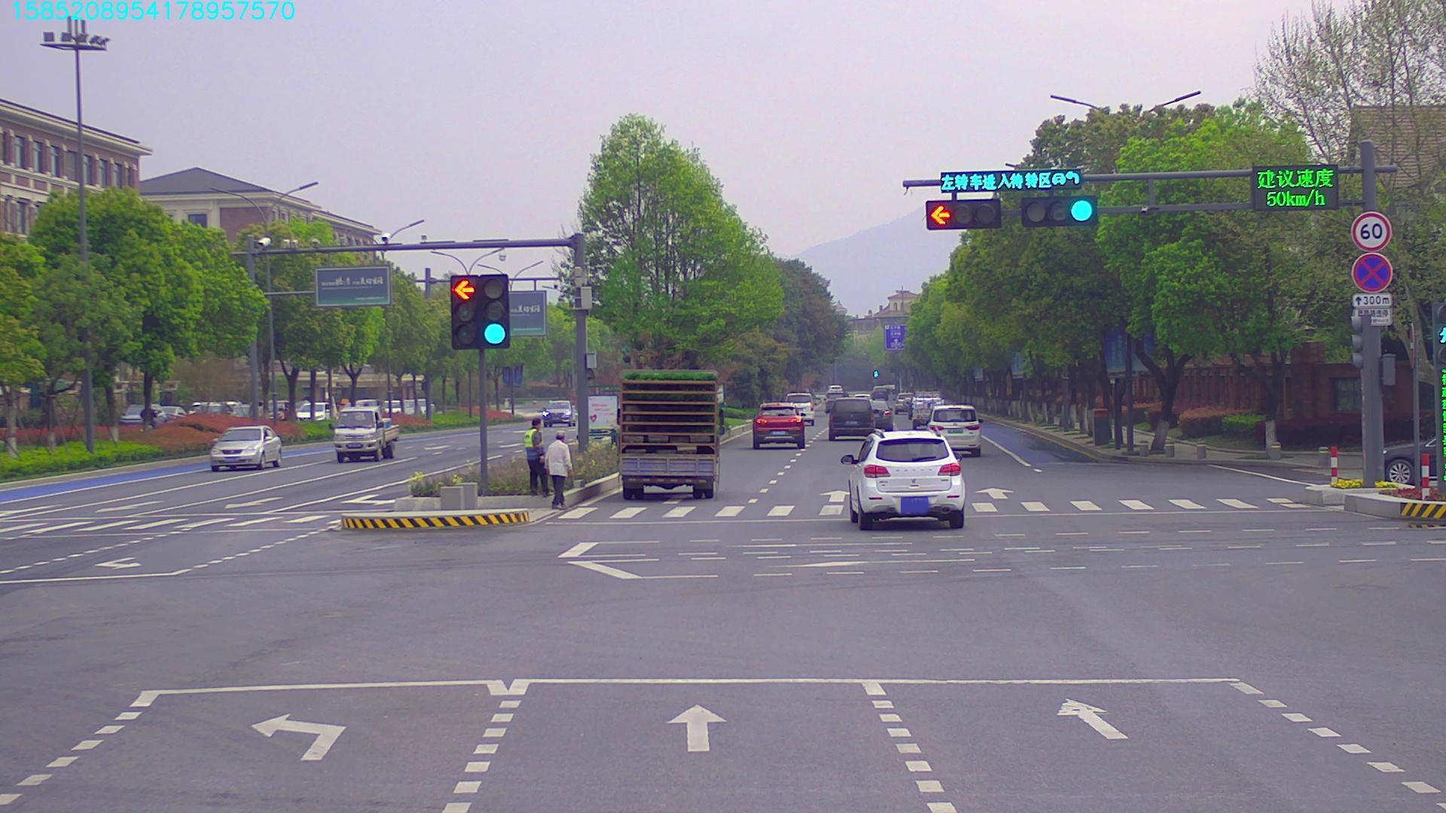green: (1021, 198, 1096, 227)
red: (926, 199, 1001, 236)
wait_on: (930, 165, 1085, 193)
